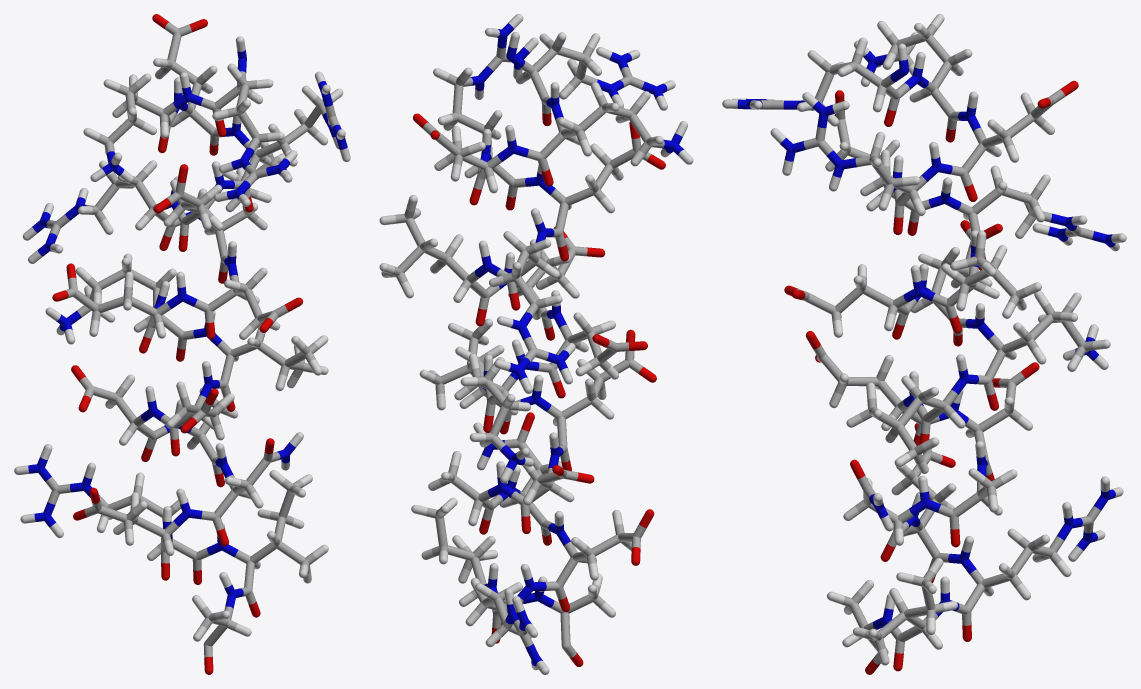
The model's file is modelo-relajado-desk-wt-with-Hs--helix-sticks.gltf.
3 renders of one model, left to right at view 1: azimuth 30°, elevation 25°; view 2: azimuth 150°, elevation 25°; view 3: azimuth 270°, elevation 25°, orthographic. The views are drawn at different scales.
Visible parts, largest first — view 1: vmd_mol0_rep1; view 2: vmd_mol0_rep1; view 3: vmd_mol0_rep1.
Part boxes in pixels (x1,y1,x2,y2): vmd_mol0_rep1: (14,14,350,674); vmd_mol0_rep1: (379,14,693,674); vmd_mol0_rep1: (722,14,1126,674).
Bounding box in the file's own units: 1.08 × 2.51 × 1.41.
